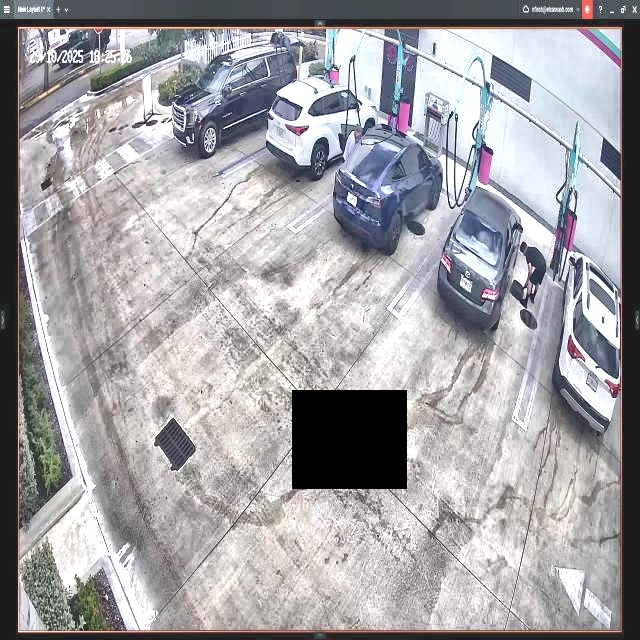Car: (332, 122, 441, 251), (172, 47, 295, 156), (438, 189, 522, 331), (268, 73, 376, 177)
